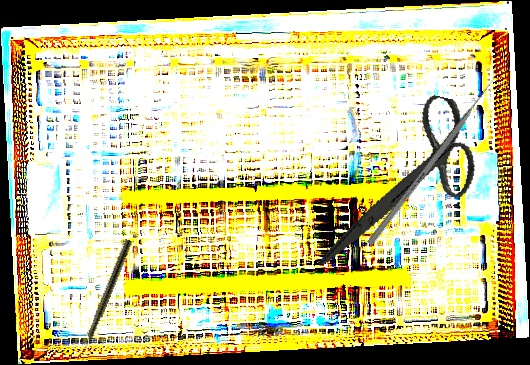Handpiece: (77, 238, 133, 359)
Iris Scissors: (315, 77, 491, 294)
Pusher: (366, 74, 499, 247)
